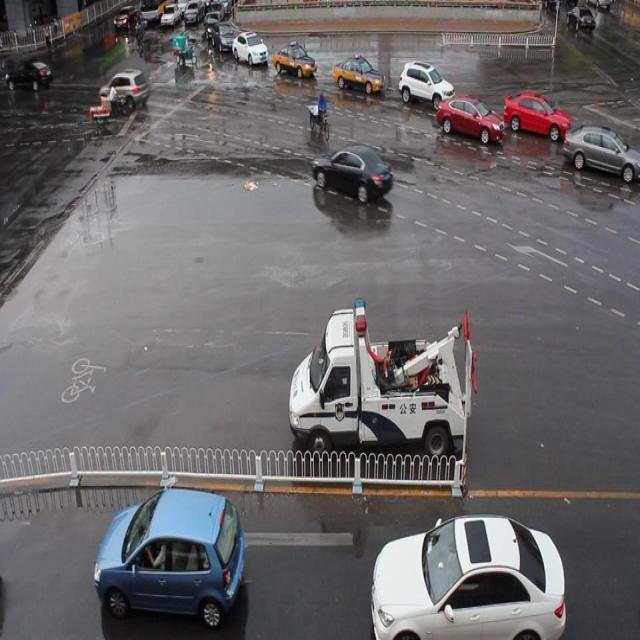car: (284, 308, 478, 459), (89, 479, 252, 638), (367, 516, 569, 640), (308, 132, 398, 218), (430, 83, 502, 154), (565, 123, 640, 186), (334, 40, 397, 107), (502, 88, 564, 147), (96, 58, 152, 111), (398, 54, 452, 104), (5, 41, 54, 95), (277, 34, 319, 82), (231, 24, 268, 74)
